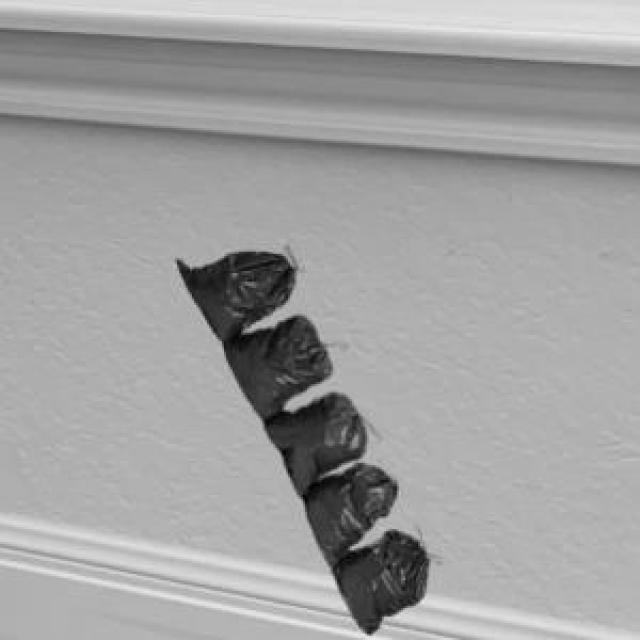miscellaneous trash: (174, 248, 427, 632)
